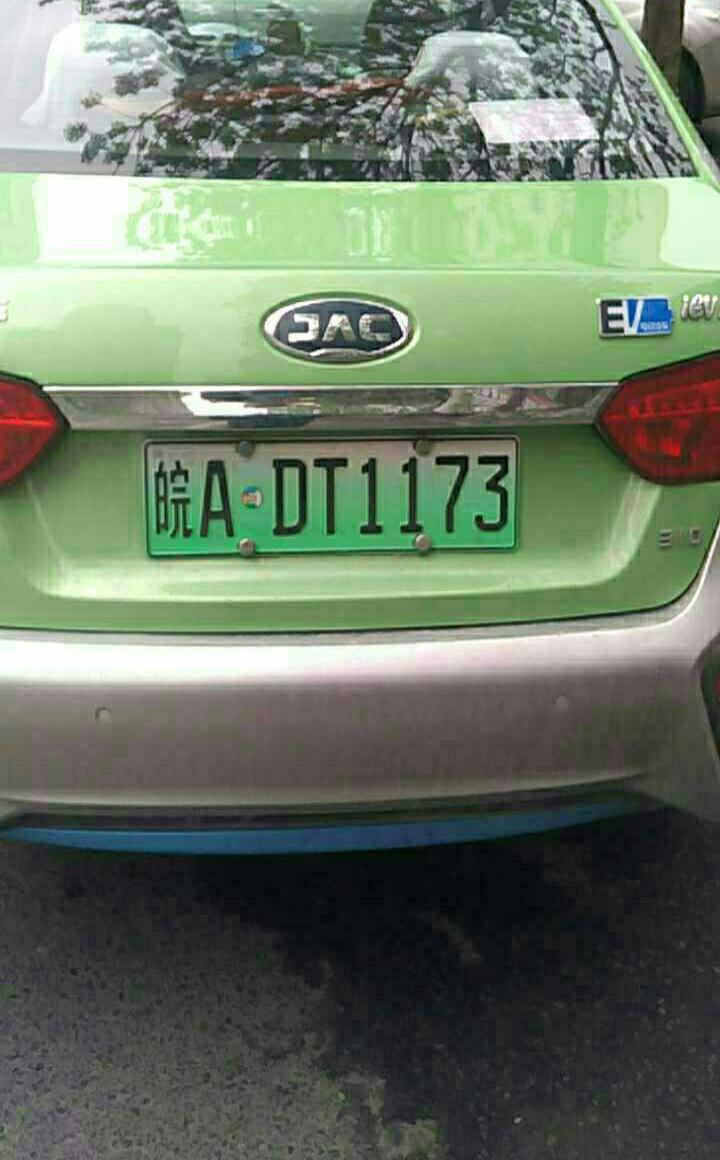car_id: (142, 437, 515, 555)
